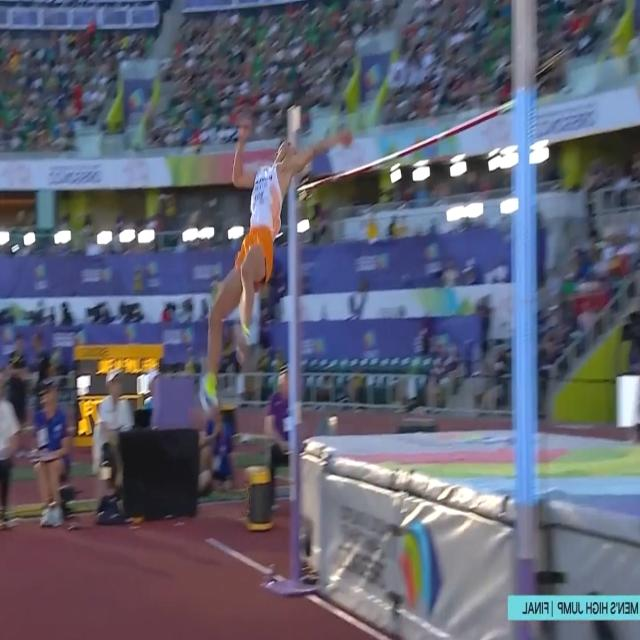jump: (201, 129, 353, 411)
